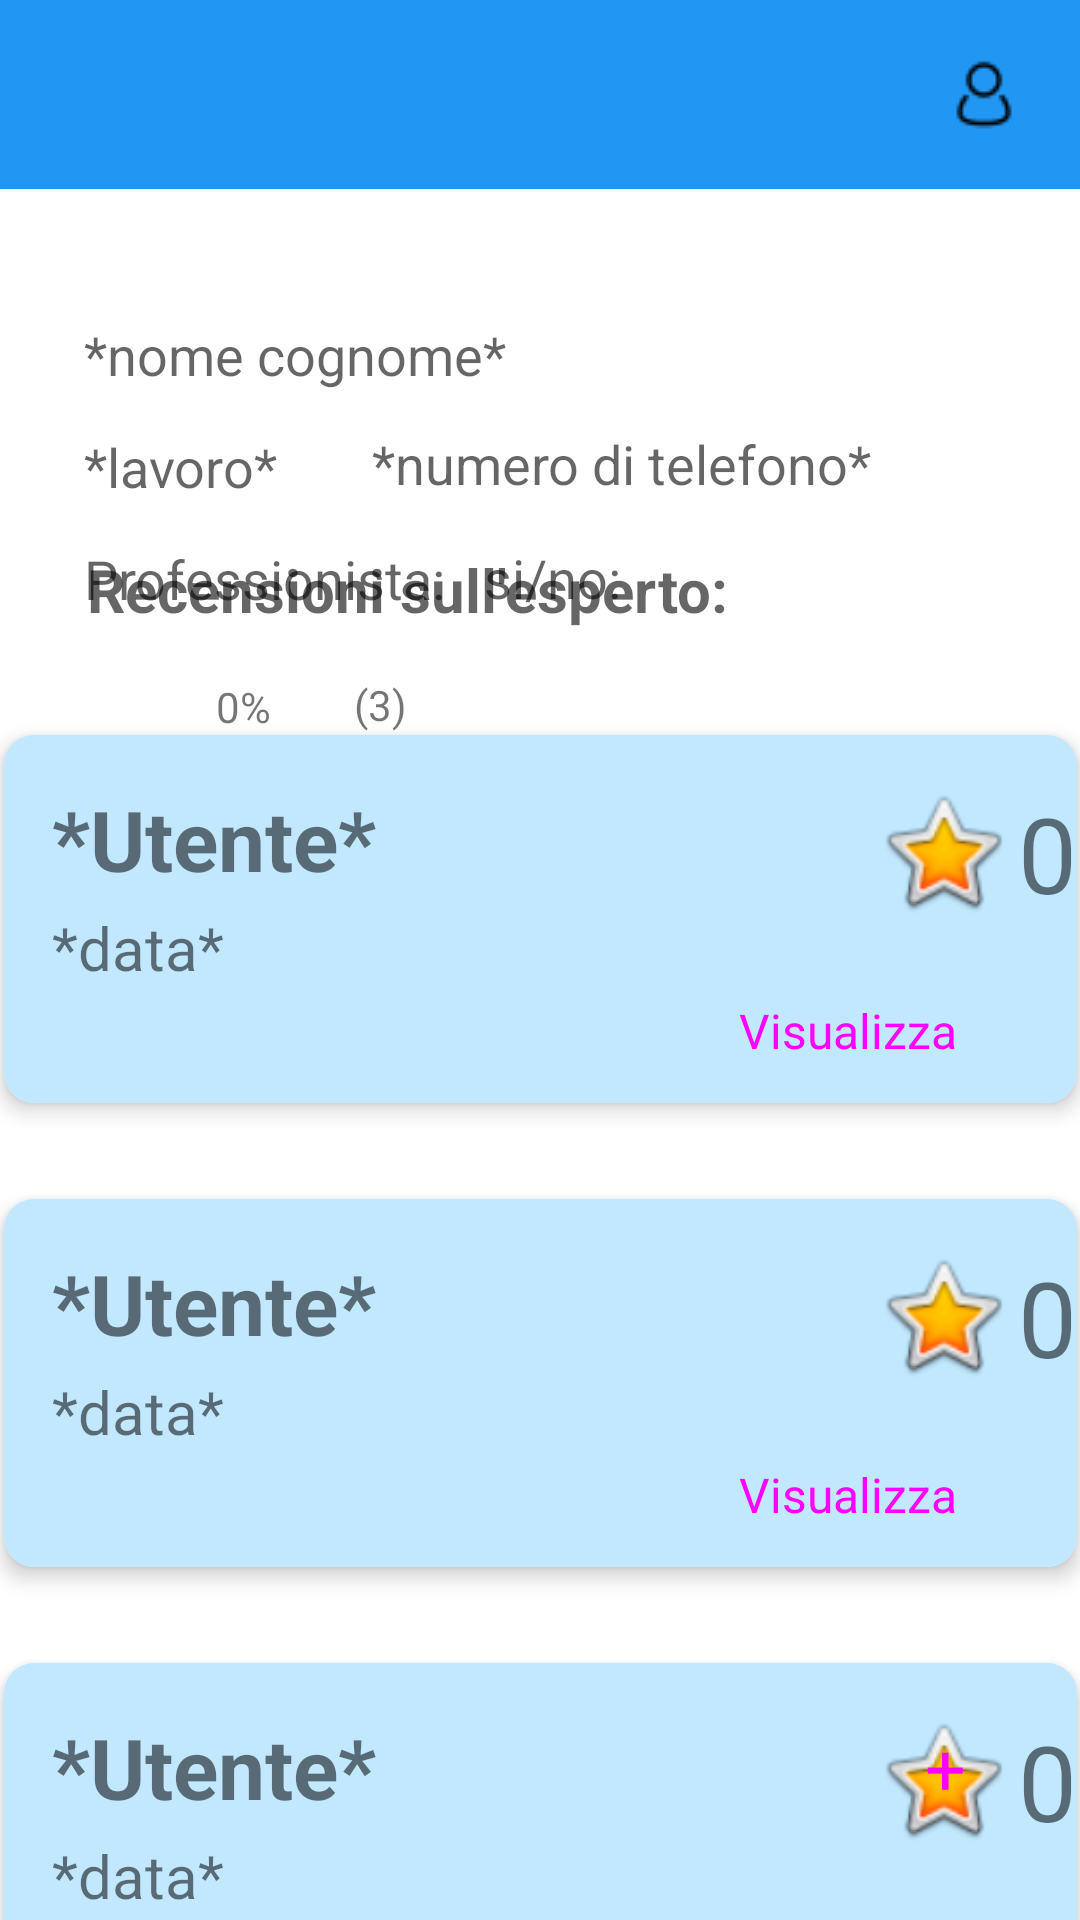

Point at icon controls on the screen. Image size 1080x1920, points as (x,y).
usericon: (984,94)
